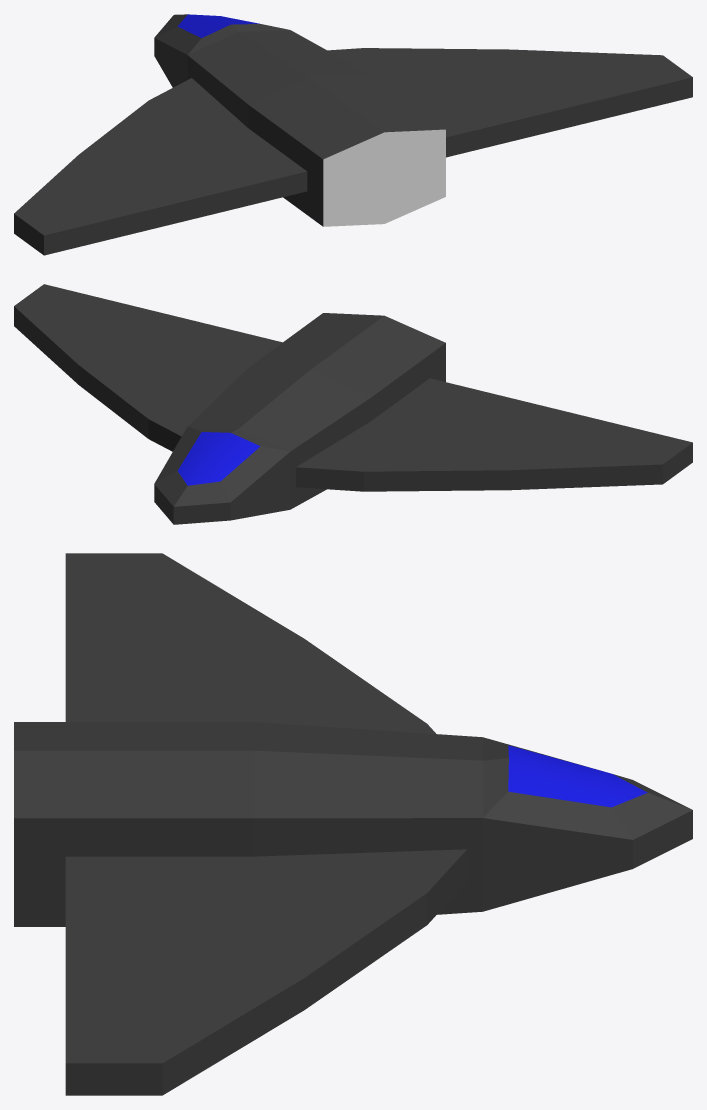
Rendered from Spaceship.fbx.
3 views of the same model, one above another, from view 1: azimuth 30°, elevation 25°; view 2: azimuth 150°, elevation 25°; view 3: azimuth 270°, elevation 25° (orthographic). The views are drawn at different scales.
Visible parts, largest first — view 1: Spaceship; view 2: Spaceship; view 3: Spaceship.
Part boxes in pixels (left/top/right/bottom): Spaceship: left=14, top=14, right=692, bottom=255; Spaceship: left=14, top=284, right=692, bottom=524; Spaceship: left=14, top=553, right=692, bottom=1095.
Size of the model in its own units: 132 by 17.8 by 74.1.
